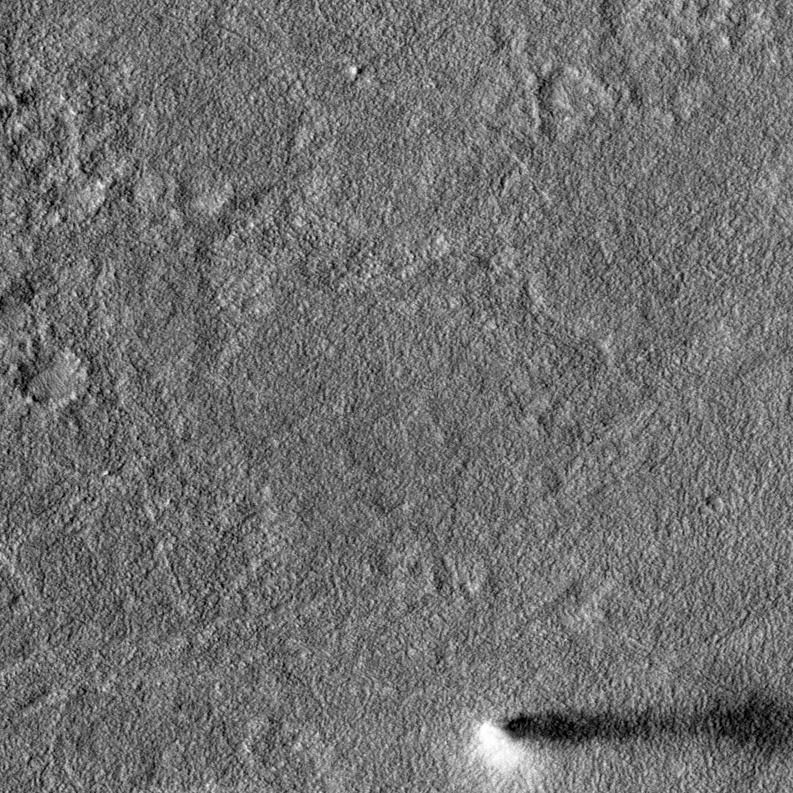dust_devil: (474, 685, 793, 779)
